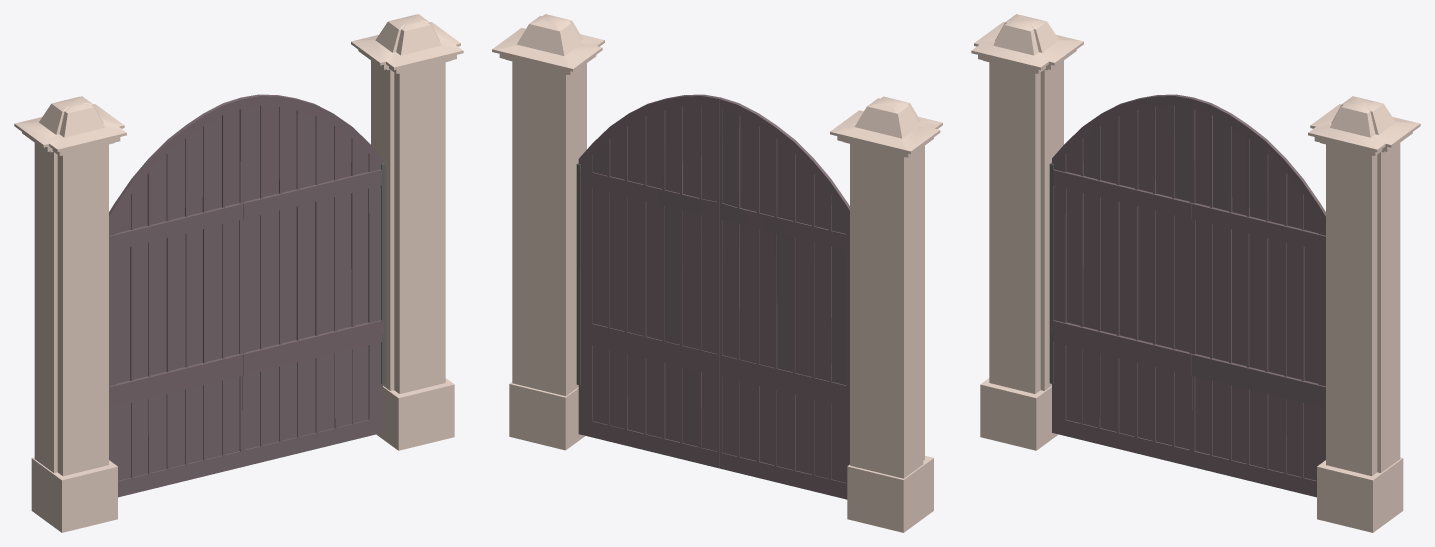
File: gate_1973-blendered.fbx
3 renders of one model, left to right at view 1: azimuth 30°, elevation 25°; view 2: azimuth 150°, elevation 25°; view 3: azimuth 330°, elevation 25°, orthographic.
Parts seen in each view (by area): view 1: s.0088, s.0080, s.0087; view 2: s.0088, s.0080, s.0087; view 3: s.0088, s.0087, s.0080.
Boxes of the visible parts, x1=… form: s.0088: x1=14, y1=14, x2=463, y2=532; s.0080: x1=241, y1=94, x2=385, y2=466; s.0087: x1=109, y1=97, x2=243, y2=497; s.0088: x1=492, y1=14, x2=942, y2=532; s.0080: x1=576, y1=94, x2=720, y2=468; s.0087: x1=719, y1=97, x2=849, y2=499; s.0088: x1=971, y1=14, x2=1420, y2=532; s.0087: x1=1049, y1=94, x2=1193, y2=466; s.0080: x1=1191, y1=97, x2=1325, y2=497.
Bounding box in the file's own units: 336 × 316 × 52.12.
